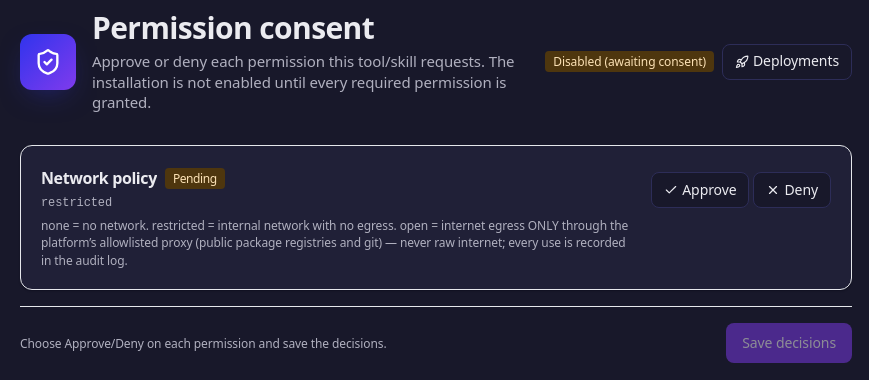
it: consentimiento de permisos en los dos idiomas › traduce el contador de decisiones sin guardar, que sólo aparece al decidir
The width and height of the screenshot is (869, 380).
Expected: the text with test id "consent-pending-hint" reads "Choose Approve/Deny on each permission and save the decisions.", [20, 335, 386, 352]
Click the button with test id "consent-grant-network_policy". click: (700,190)
box: [651, 172, 750, 208]
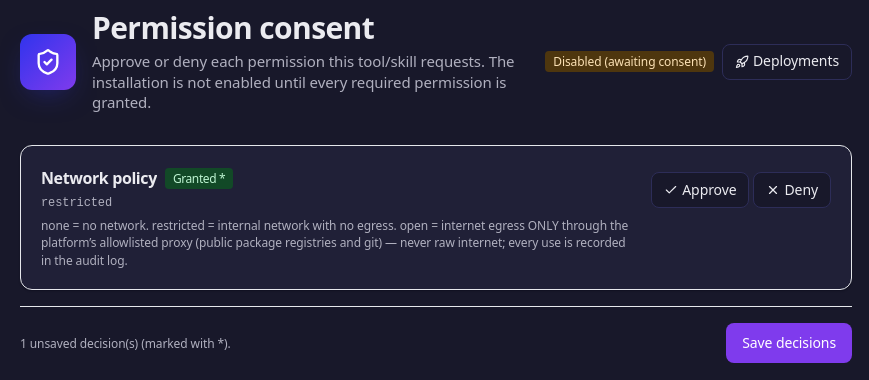
Now the text with test id "consent-pending-hint" reads "1 unsaved decision(s) (marked with *).", box [20, 335, 231, 352]
Now the text with test id "consent-state-network_policy" reads "Granted *", box [173, 170, 216, 187]
